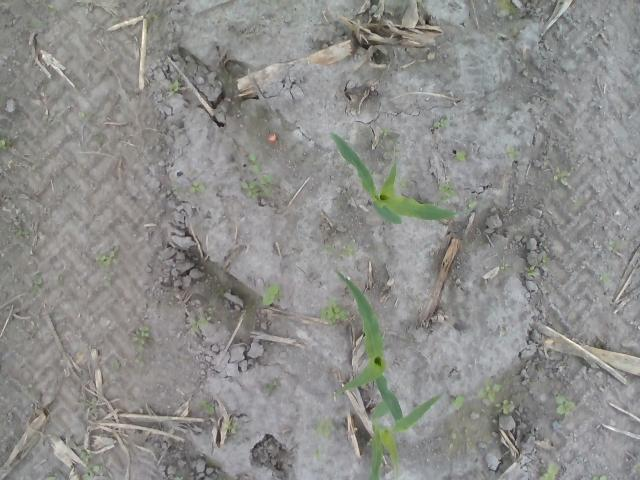Maize: (330, 128, 456, 227), (330, 266, 404, 428), (368, 393, 441, 480)
Weeds: (320, 297, 350, 328), (239, 176, 274, 200), (130, 326, 158, 352), (478, 378, 503, 403), (448, 427, 475, 450), (320, 240, 354, 258), (96, 244, 120, 269), (313, 414, 336, 439), (554, 392, 576, 416), (438, 180, 458, 203), (383, 138, 402, 161), (262, 282, 280, 306), (32, 271, 48, 298), (538, 462, 560, 480), (496, 0, 518, 18), (552, 164, 570, 185), (243, 152, 260, 174), (81, 463, 102, 480), (79, 391, 96, 410), (450, 394, 466, 412), (198, 399, 216, 414), (264, 377, 280, 393), (496, 399, 512, 414), (225, 416, 238, 434), (0, 133, 13, 151), (78, 447, 92, 463), (192, 182, 210, 194), (168, 80, 181, 96), (506, 145, 520, 159), (608, 239, 624, 251), (432, 116, 448, 128), (190, 319, 208, 329), (454, 150, 468, 162), (498, 261, 511, 273), (104, 270, 112, 288), (16, 228, 32, 237), (379, 126, 392, 137), (527, 265, 538, 278), (510, 22, 520, 36), (134, 355, 146, 366), (150, 12, 162, 23), (23, 383, 33, 395), (399, 178, 408, 191), (467, 198, 478, 208), (590, 474, 608, 480), (78, 111, 88, 121), (47, 472, 59, 480), (496, 30, 508, 38), (367, 167, 377, 176), (312, 448, 321, 458), (175, 475, 192, 480), (599, 274, 608, 283), (47, 4, 56, 13), (542, 255, 550, 265), (96, 135, 104, 145), (632, 463, 640, 472), (439, 303, 448, 311), (335, 388, 344, 396), (376, 160, 384, 167)
